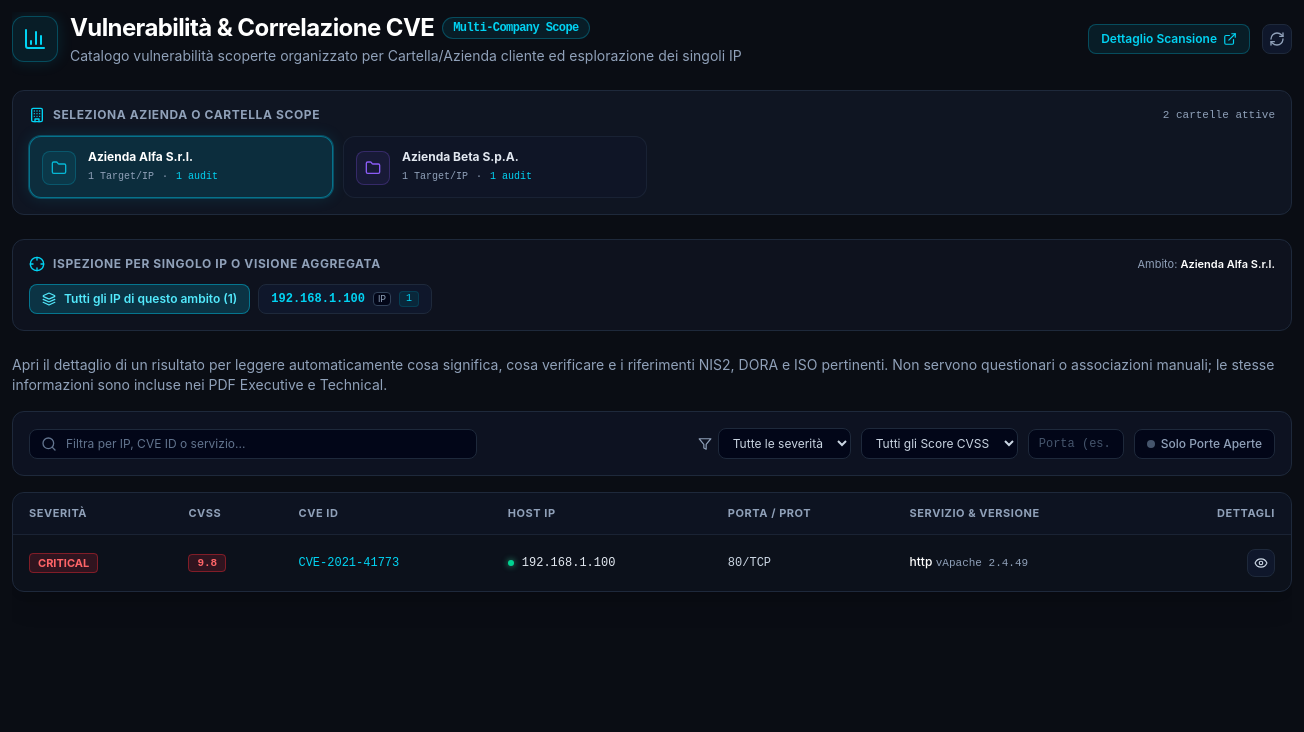
Test: Findings Page - Multi-Company Scope & IP Inspection › allows switching companies to inspect a different client scope and findings
Expected: the text "Azienda Beta S.p.A." is shown, top-left (402, 148), bottom-right (519, 164)
Expected: the text "CVE-2021-41773" is shown, top-left (282, 534), bottom-right (492, 590)
Click the button "Azienda Beta S.p.A. 1 Target/IP · 1 audit" at point(495, 166), box top-left (343, 136), bottom-right (647, 198)
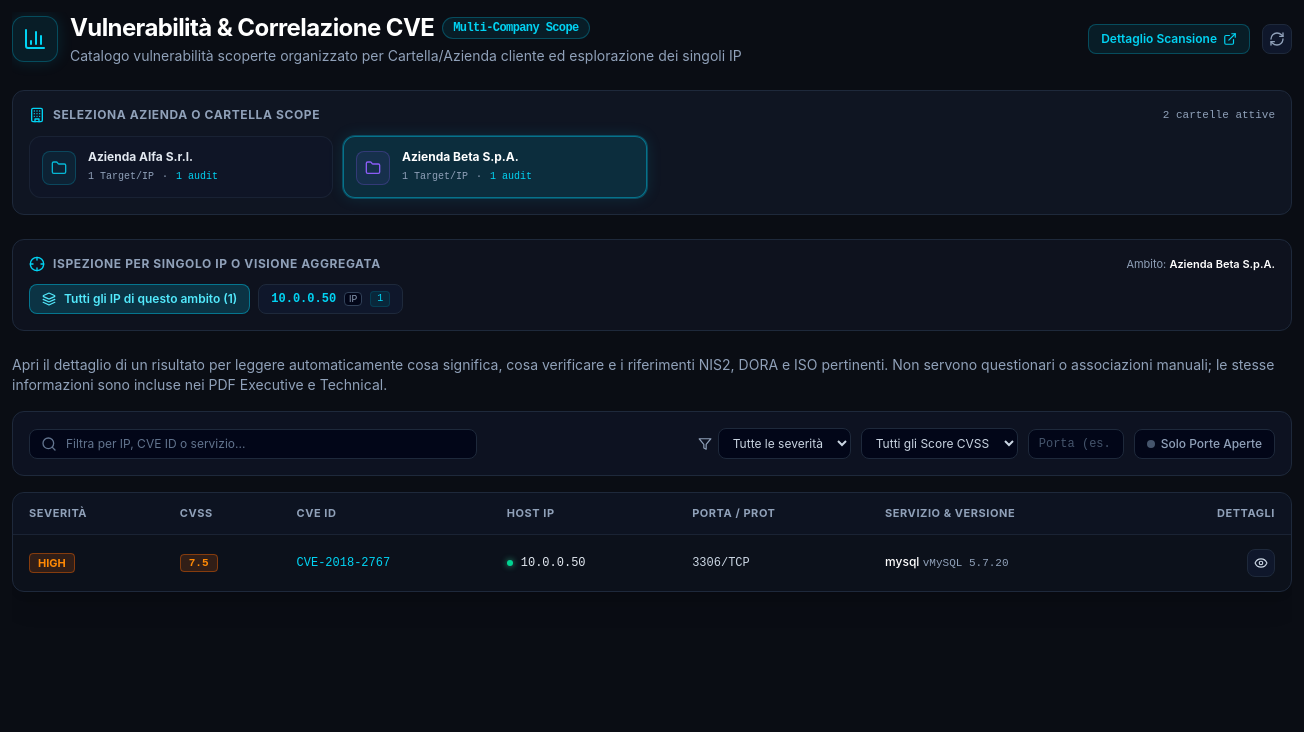
Expected: the 1st text "10.0.0.50" is shown, top-left (271, 291), bottom-right (336, 307)
Expected: the text "CVE-2018-2767" is shown, top-left (280, 534), bottom-right (491, 590)
Expected: the text "CVE-2021-41773" is gone
